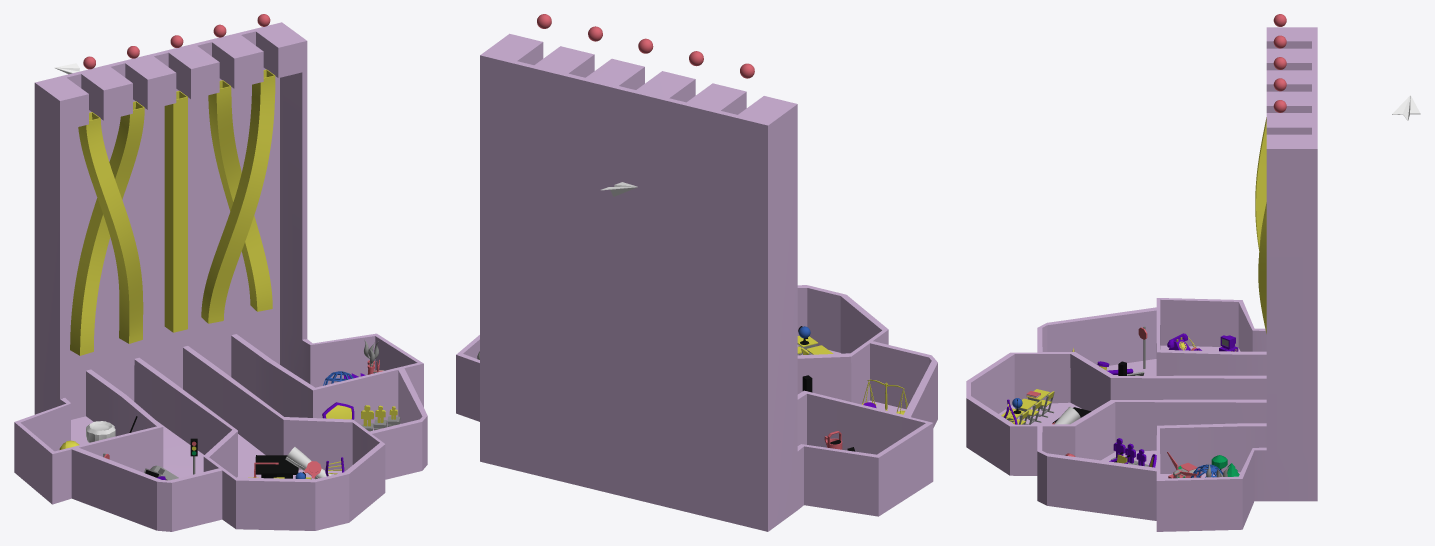
File: 020-politics_influence.glb
3 renders of one model, left to right at view 1: azimuth 30°, elevation 25°; view 2: azimuth 150°, elevation 25°; view 3: azimuth 270°, elevation 25°, orthographic. The views are drawn at different scales.
Parts seen in each view (by area): view 1: GEO.Static, EVT.Education, EVT.Care, EVT.Justice, EVT.Environment, EVT.Employment; view 2: GEO.Static, EVT.Justice; view 3: GEO.Static, EVT.Education, EVT.Care, EVT.Justice, EVT.Employment, EVT.Environment.
Part boxes in pixels (x1=…): GEO.Static: x1=14, y1=22, x2=427, y2=531; EVT.Education: x1=137, y1=346, x2=382, y2=480; EVT.Care: x1=186, y1=334, x2=424, y2=432; EVT.Justice: x1=72, y1=358, x2=234, y2=481; EVT.Environment: x1=234, y1=334, x2=420, y2=388; EVT.Employment: x1=17, y1=370, x2=159, y2=452; GEO.Static: x1=456, y1=33, x2=937, y2=531; EVT.Justice: x1=797, y1=341, x2=934, y2=416; GEO.Static: x1=966, y1=27, x2=1317, y2=531; EVT.Education: x1=968, y1=352, x2=1266, y2=425; EVT.Care: x1=1039, y1=400, x2=1266, y2=469; EVT.Justice: x1=1039, y1=307, x2=1266, y2=376; EVT.Employment: x1=1158, y1=298, x2=1266, y2=352; EVT.Environment: x1=1158, y1=424, x2=1266, y2=479.
Bounding box in the file's own units: 1.75 × 1.71 × 1.84.
